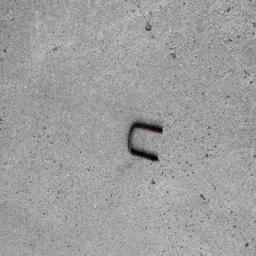FOD: (125, 119, 167, 166)
